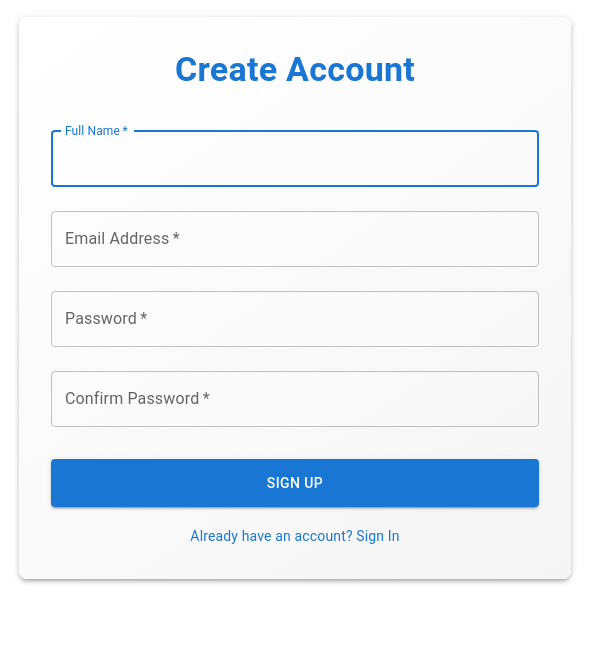
Test: Register Component › validates required fields
Step 1. Click the button "Sign Up" → {"x": 295, "y": 483}, box 51,459 -> 539,508
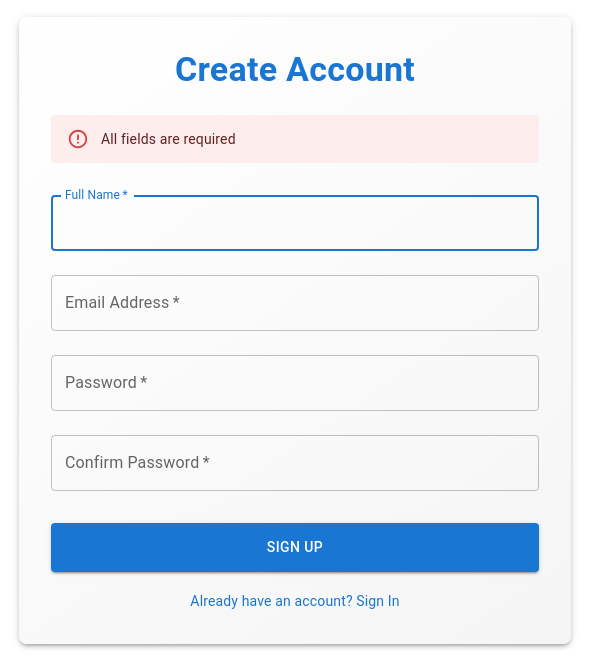
Check: the text "All fields are required" is shown, box 101,131 -> 236,147
